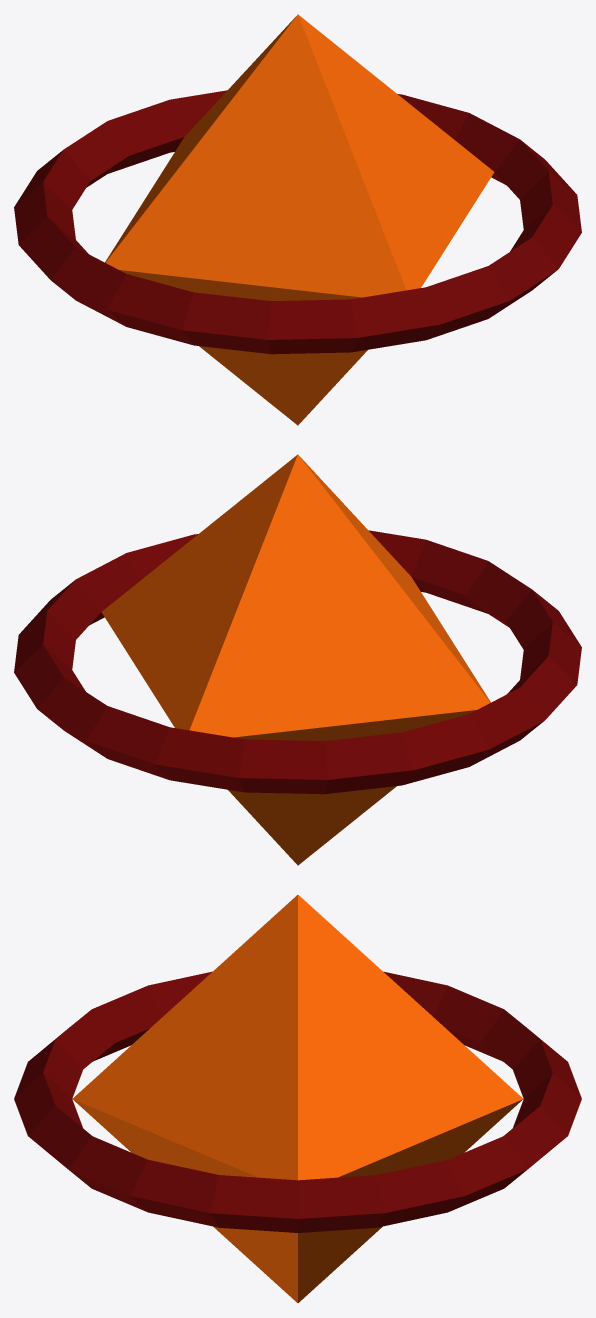
Rendered from pickup_bomb.glb.
3 views of the same model, one above another, from view 1: azimuth 30°, elevation 25°; view 2: azimuth 150°, elevation 25°; view 3: azimuth 270°, elevation 25° (orthographic).
Parts seen in each view (by area): view 1: pickup_bomb; view 2: pickup_bomb; view 3: pickup_bomb.
Boxes of the visible parts, box(x1,y1,x2,y2) form: pickup_bomb: box(14, 14, 581, 425); pickup_bomb: box(14, 454, 581, 865); pickup_bomb: box(14, 895, 581, 1302).
Size of the model in its own units: 1.56 by 1.24 by 1.56.
